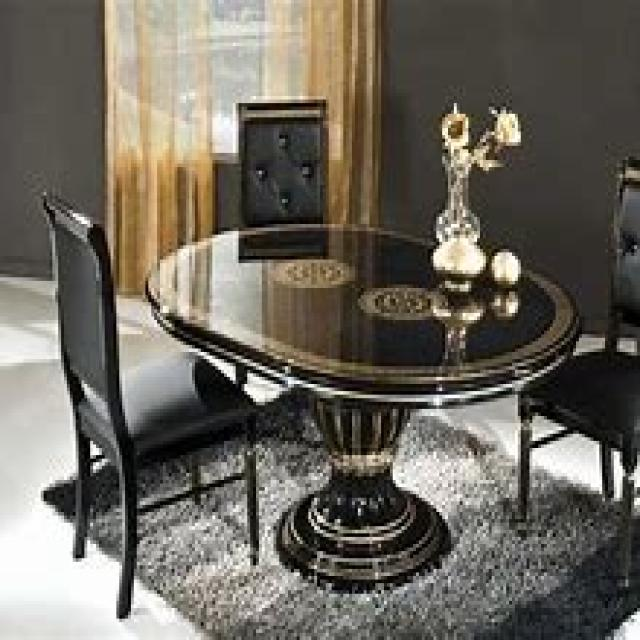chair: (41, 185, 259, 619), (515, 153, 637, 590)
table: (142, 217, 579, 590)
